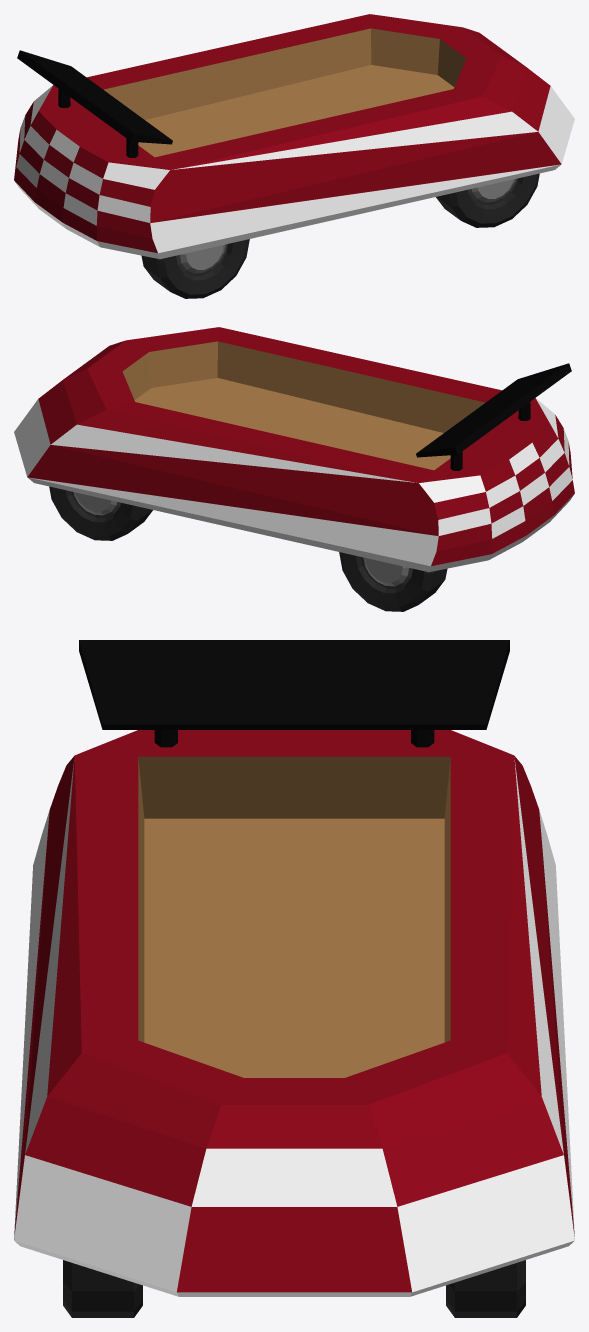
Rendered from SM_Basic_Car.fbx.
3 views of the same model, one above another, from view 1: azimuth 30°, elevation 25°; view 2: azimuth 150°, elevation 25°; view 3: azimuth 270°, elevation 25° (orthographic). The views are drawn at different scales.
Parts seen in each view (by area): view 1: Basic Car, Right Back Wheel, Front Right Wheel; view 2: Basic Car, Left Back Wheel, Front Left Wheel; view 3: Basic Car, Front Left Wheel, Front Right Wheel.
Boxes of the visible parts, box(x1,y1,x2,y2) form: Basic Car: box(14, 14, 574, 259); Right Back Wheel: box(141, 239, 249, 298); Front Right Wheel: box(436, 173, 539, 227); Basic Car: box(14, 327, 574, 572); Left Back Wheel: box(339, 552, 447, 611); Front Left Wheel: box(49, 486, 152, 540); Basic Car: box(14, 640, 574, 1296); Front Left Wheel: box(446, 1260, 525, 1317); Front Right Wheel: box(63, 1260, 142, 1317).
Bounding box in the file's own units: 490 × 170 × 255.
